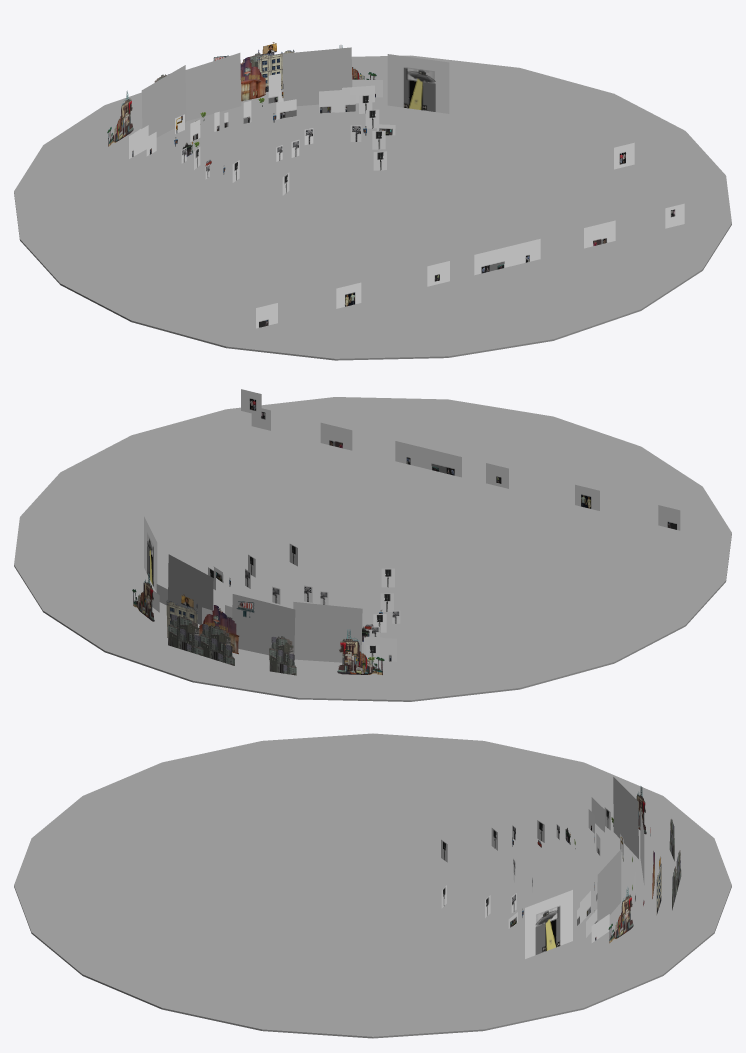
Rendered from ciudad_DRBZ_v01.fbx.
The picture shows the model from 3 angles, top to bottom: view 1: azimuth 30°, elevation 25°; view 2: azimuth 150°, elevation 25°; view 3: azimuth 270°, elevation 25°; orthographic projection.
Parts seen in each view (by area): view 1: base, ovni, p02_hemeroteca, p02_foto, p02_show, p02_libros, p3_02, polySurface33, p3_05; view 2: base, p02_show, p02_foto, p3_03, p02_hemeroteca, p3_05, p3_04, p02_libros, ovni, polySurface33, p3_02, polySurface11 (+3 smaller); view 3: base, ovni, p02_show, p02_hemeroteca, p3_01.
Part boxes in pixels (x1,y1,x2,y2): base: (14, 55, 731, 360); ovni: (387, 54, 449, 113); p02_hemeroteca: (282, 47, 352, 106); p02_foto: (185, 53, 241, 121); p02_show: (141, 65, 186, 137); p02_libros: (240, 57, 265, 101); p3_02: (257, 42, 294, 91); polySurface33: (584, 220, 615, 248); p3_05: (107, 90, 133, 146); base: (14, 397, 731, 701); p02_show: (293, 602, 362, 662); p02_foto: (232, 594, 295, 655); p3_03: (168, 614, 234, 665); p02_hemeroteca: (168, 554, 213, 624); p3_05: (337, 629, 384, 675); p3_04: (269, 636, 296, 675); p02_libros: (199, 605, 239, 654); ovni: (144, 516, 157, 591); polySurface33: (320, 422, 352, 450); p3_02: (166, 594, 197, 637); polySurface11: (364, 637, 396, 661); base: (14, 733, 731, 1038); ovni: (525, 890, 572, 958); p02_show: (613, 777, 638, 858); p02_hemeroteca: (597, 849, 621, 921); p3_01: (608, 886, 633, 943).
Bounding box in the file's own units: 325 × 53.75 × 325.
